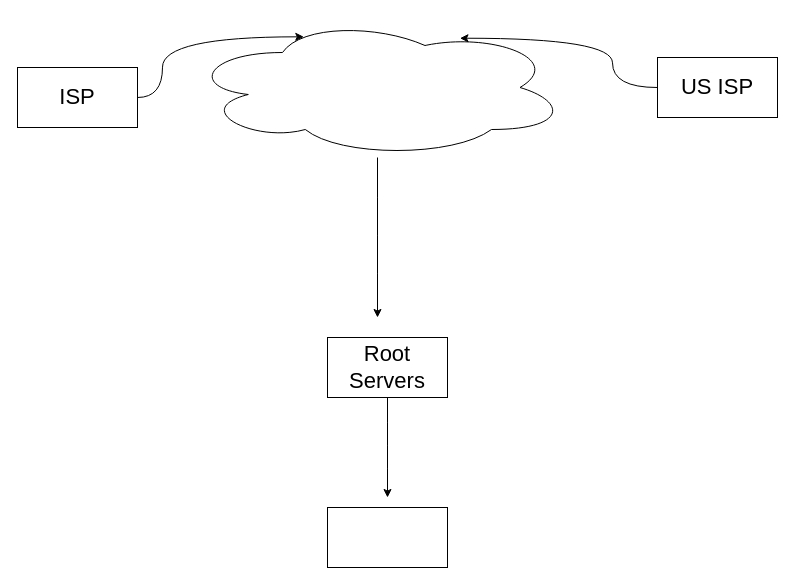
Some shapes in this 795 by 585 pixel diagram are drawn without their labels. The shapes that lost their labels are listed below. From the top down, each one's centre as x and y in pixels, then its label:
At [377,87]: "Internet".
At [387,537]: "TLD Servers".
